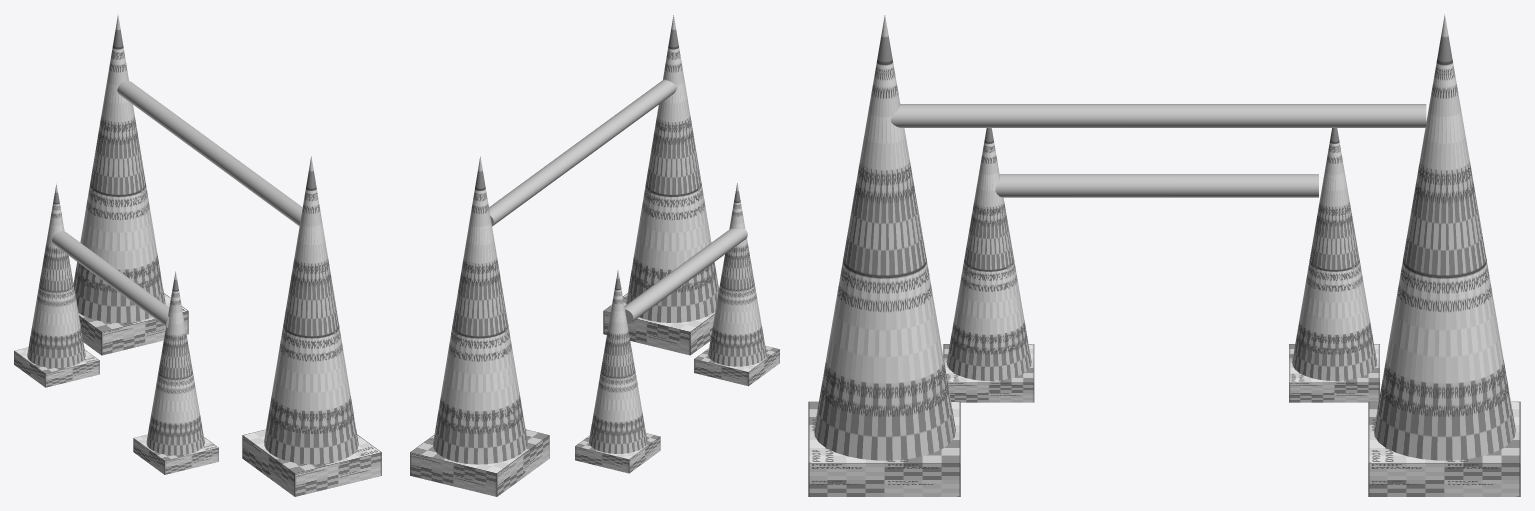
Rendered from Barricade.fbx.
3 views of the same model, side by side, from view 1: azimuth 30°, elevation 25°; view 2: azimuth 150°, elevation 25°; view 3: azimuth 270°, elevation 25° (orthographic). The views are drawn at different scales.
Visible parts, largest first — view 1: Cone__1_, Cone__2_, Cone__4_, Cone__3_, base, Barricade, base_1, Cylinder__9_, base_2, base_3; view 2: Cone__2_, Cone__1_, Cone__3_, Cone__4_, base_1, Barricade, Cylinder__9_, base, base_3, base_2; view 3: Cone__2_, Cone__1_, Barricade, Cone__3_, Cone__4_, Cylinder__9_, base, base_1, base_2, base_3.
Part boxes in pixels (x1,y1,x2,y2): Cone__1_: (264, 156, 358, 474); Cone__2_: (73, 14, 165, 322); Cone__4_: (146, 271, 204, 461); Cone__3_: (27, 183, 85, 374); base: (242, 429, 381, 496); Barricade: (117, 81, 302, 226); base_1: (78, 293, 188, 355); Cylinder__9_: (52, 231, 169, 327); base_2: (14, 347, 99, 387); base_3: (133, 434, 218, 474); Cone__2_: (433, 156, 527, 475); Cone__1_: (626, 15, 718, 322); Cone__3_: (589, 269, 647, 460); Cone__4_: (708, 183, 766, 372); base_1: (410, 429, 549, 496); Barricade: (489, 79, 676, 226); Cylinder__9_: (624, 228, 747, 323); base: (603, 288, 719, 355); base_3: (694, 346, 779, 386); base_2: (575, 433, 660, 473); Cone__2_: (1374, 14, 1515, 460); Cone__1_: (814, 15, 955, 460); Barricade: (891, 104, 1426, 127); Cone__3_: (1292, 128, 1376, 380); Cone__4_: (947, 128, 1031, 380); Cylinder__9_: (995, 174, 1318, 197); base: (808, 401, 960, 496); base_1: (1368, 401, 1520, 496); base_2: (1289, 344, 1379, 402); base_3: (943, 344, 1034, 402).
Size of the model in its own units: 111 by 193 by 276.
